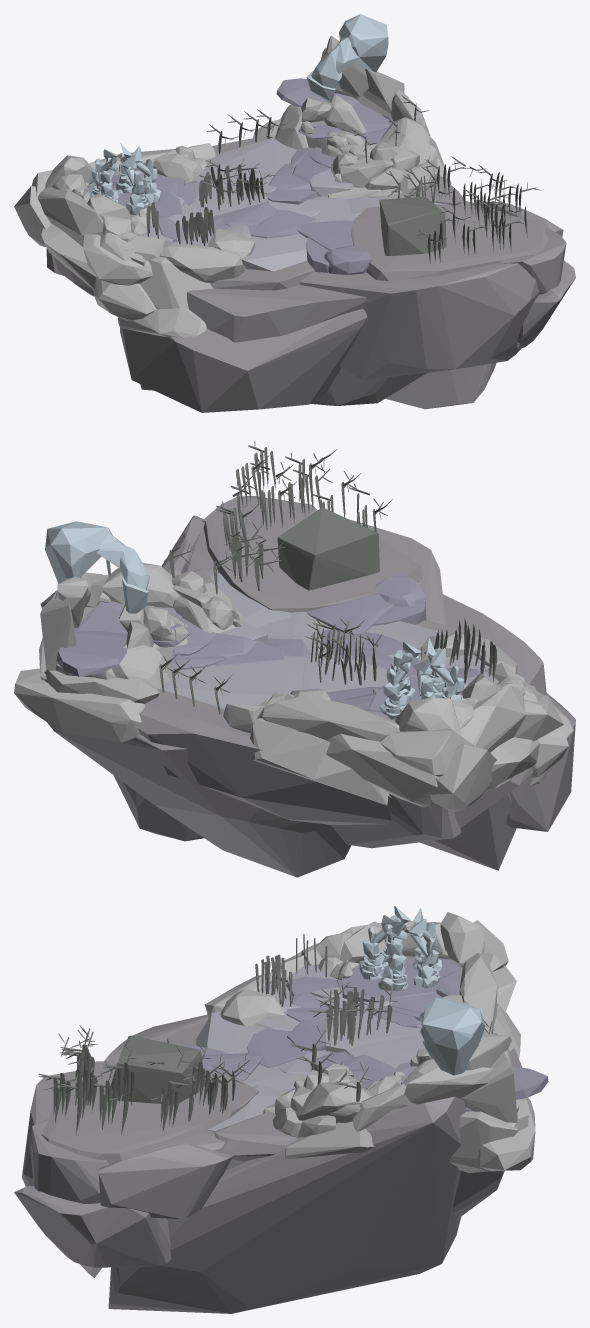
Rendered from MountainSurroundings.dae.
3 renders of one model, top to bottom at view 1: azimuth 30°, elevation 25°; view 2: azimuth 150°, elevation 25°; view 3: azimuth 270°, elevation 25°, orthographic. The views are drawn at different scales.
Visible parts, largest first — view 1: Rocks, s.1124, s.1167, s.1125, s.1271, s.1106, s.0955, s.0608, s.001; view 2: Rocks, s.1124, s.1167, s.1271, s.1125, s.1106, s.001, s.0955, s.0608; view 3: Rocks, s.1167, s.1271, s.1124, s.1125, s.1106, s.0955, s.001, s.0608.
Boxes of the visible parts, x1=… form: Rocks: x1=46, y1=93, x2=575, y2=412; s.1124: x1=14, y1=143, x2=254, y2=337; s.1167: x1=253, y1=35, x2=451, y2=199; s.1125: x1=87, y1=78, x2=393, y2=274; s.1271: x1=146, y1=95, x2=541, y2=264; s.1106: x1=139, y1=139, x2=448, y2=271; s.0955: x1=91, y1=143, x2=160, y2=214; s.0608: x1=307, y1=14, x2=388, y2=102; s.001: x1=306, y1=16, x2=388, y2=102; Rocks: x1=40, y1=496, x2=575, y2=877; s.1124: x1=223, y1=632, x2=573, y2=811; s.1167: x1=14, y1=563, x2=247, y2=742; s.1271: x1=106, y1=441, x2=497, y2=714; s.1125: x1=56, y1=572, x2=479, y2=721; s.1106: x1=160, y1=572, x2=498, y2=709; s.001: x1=45, y1=528, x2=149, y2=613; s.0955: x1=379, y1=638, x2=464, y2=719; s.0608: x1=45, y1=521, x2=142, y2=588; Rocks: x1=14, y1=1014, x2=528, y2=1313; s.1167: x1=263, y1=1033, x2=535, y2=1173; s.1271: x1=38, y1=934, x2=496, y2=1135; s.1124: x1=205, y1=912, x2=520, y2=1057; s.1125: x1=181, y1=956, x2=548, y2=1111; s.1106: x1=196, y1=965, x2=425, y2=1131; s.0955: x1=359, y1=906, x2=441, y2=990; s.001: x1=420, y1=997, x2=485, y2=1075; s.0608: x1=420, y1=997, x2=480, y2=1074.
Size of the model in its own units: 66.87 by 68.51 by 46.59.
